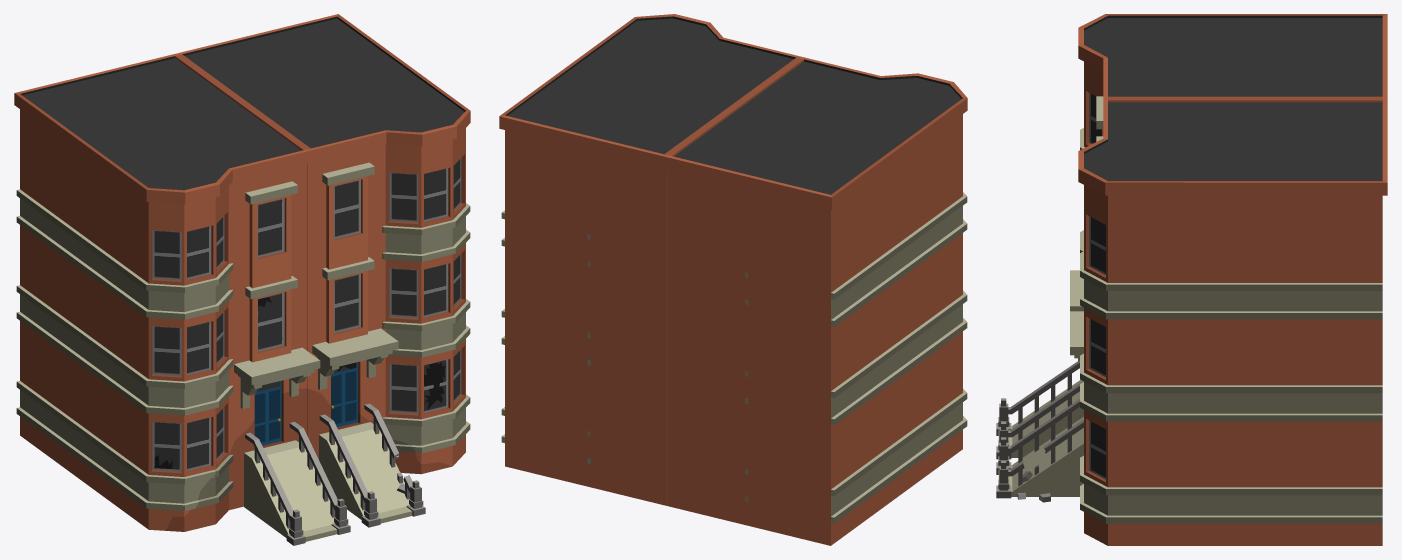
Rendered from SA_Bld_TownHouseLarge_01.glb.
The picture shows the model from 3 angles, left to right: view 1: azimuth 30°, elevation 25°; view 2: azimuth 150°, elevation 25°; view 3: azimuth 270°, elevation 25°; orthographic projection. The views are drawn at different scales.
Visible parts, largest first — view 1: SA_Bld_TownHouseLarge_01; view 2: SA_Bld_TownHouseLarge_01; view 3: SA_Bld_TownHouseLarge_01.
Part boxes in pixels (<box>): SA_Bld_TownHouseLarge_01: <box>14,14,470,545</box>; SA_Bld_TownHouseLarge_01: <box>499,14,967,545</box>; SA_Bld_TownHouseLarge_01: <box>996,14,1387,545</box>.
Size of the model in its own units: 7.73 by 7.8 by 7.57.
Materials: 1 (1 with a texture image).
